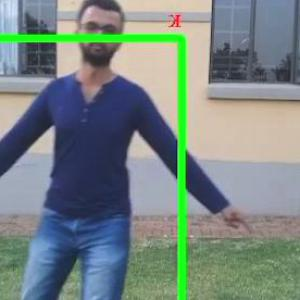land: (1, 38, 200, 299)
